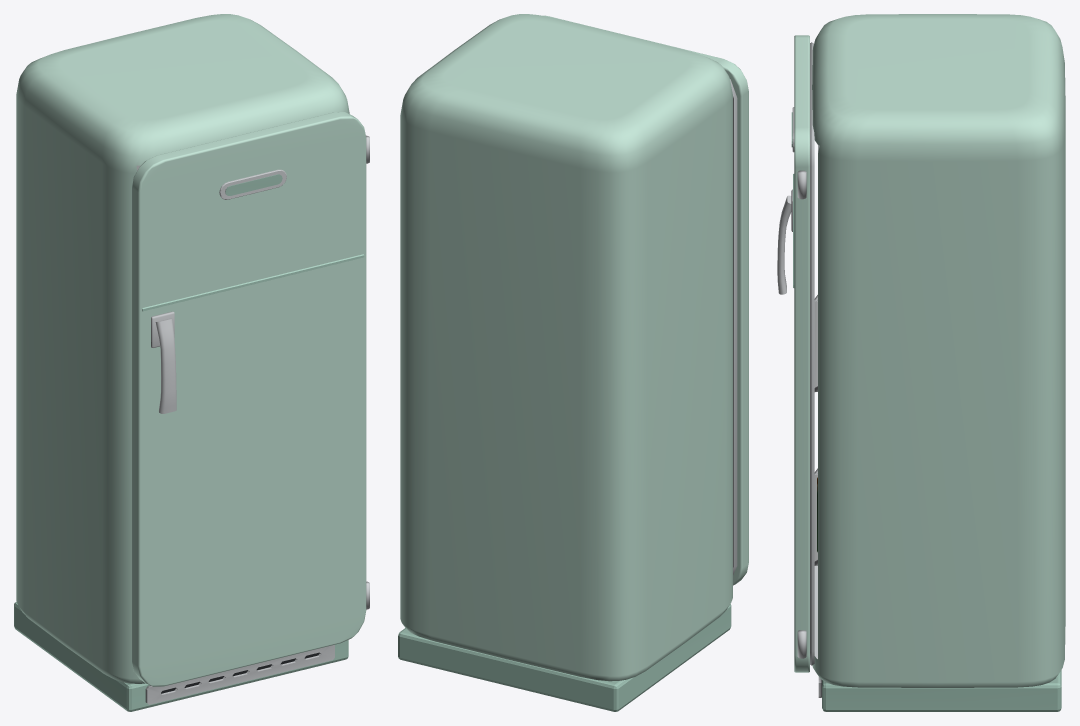
The model's file is fridgeRetro.glb.
3 renders of one model, left to right at view 1: azimuth 30°, elevation 25°; view 2: azimuth 150°, elevation 25°; view 3: azimuth 270°, elevation 25°, orthographic. The views are drawn at different scales.
Parts seen in each view (by area): view 1: door, body, lever; view 2: body, door; view 3: body, door, lever.
Boxes of the visible parts, x1,y1,x2,y2 form: door: (132, 112, 366, 686); body: (14, 14, 369, 711); lever: (155, 318, 176, 413); body: (398, 14, 732, 711); door: (543, 15, 748, 585); body: (797, 14, 1065, 711); door: (791, 35, 817, 672); lever: (777, 195, 791, 294).
Size of the model in its own units: 0.72 by 1.64 by 0.722.
